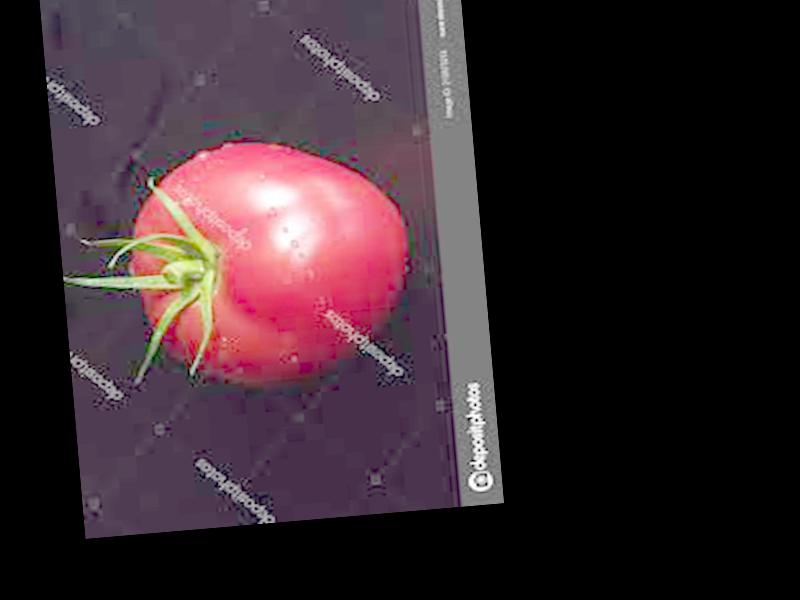Tomato: (122, 130, 416, 393)
